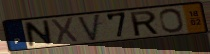7: (105, 12, 128, 40)
N: (23, 19, 54, 48)
O: (158, 7, 186, 34)
R: (128, 10, 161, 38)
V: (76, 12, 102, 42)
X: (50, 16, 80, 45)
